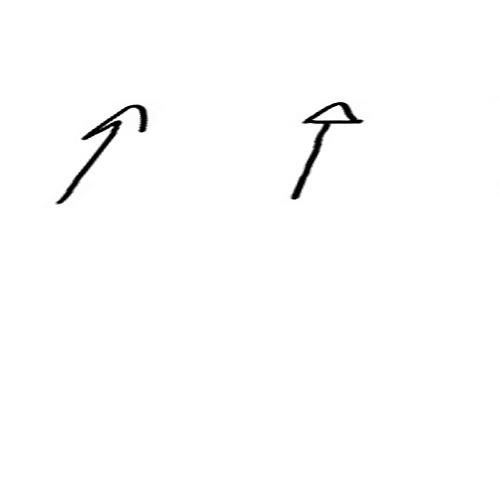arrow: (57, 100, 148, 204), (294, 93, 363, 201)
